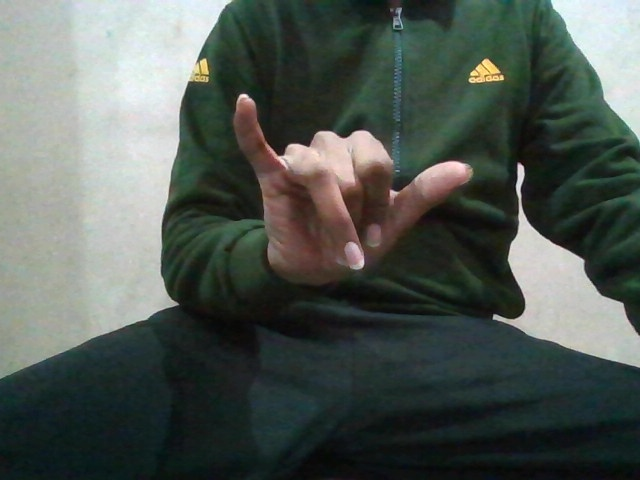Y: (227, 96, 476, 284)
